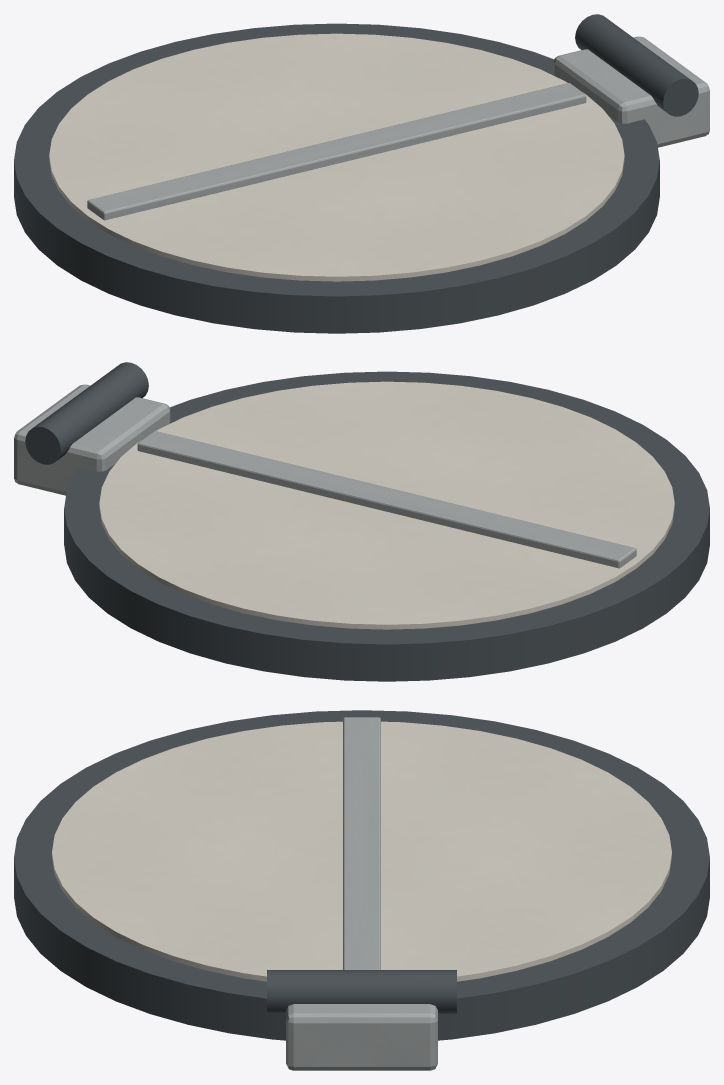
File: telescope_aperture_cover.glb
3 views of the same model, one above another, from view 1: azimuth 30°, elevation 25°; view 2: azimuth 150°, elevation 25°; view 3: azimuth 270°, elevation 25° (orthographic). The views are drawn at different scales.
Visible parts, largest first — view 1: CoverFace, CoverPlate, CoverRib, HingeBracket, HingePin.001; view 2: CoverFace, CoverPlate, CoverRib, HingeBracket, HingePin.001; view 3: CoverFace, CoverPlate, HingeBracket, CoverRib, HingePin.001.
Part boxes in pixels (x1=…): CoverFace: x1=49, y1=33, x2=624, y2=281; CoverPlate: x1=14, y1=23, x2=659, y2=333; CoverRib: x1=87, y1=83, x2=586, y2=220; HingeBracket: x1=553, y1=36, x2=709, y2=147; HingePin.001: x1=575, y1=14, x2=698, y2=116; CoverFace: x1=99, y1=381, x2=674, y2=629; CoverPlate: x1=64, y1=371, x2=709, y2=681; CoverRib: x1=137, y1=431, x2=636, y2=568; HingeBracket: x1=14, y1=384, x2=170, y2=495; HingePin.001: x1=25, y1=362, x2=148, y2=464; CoverFace: x1=52, y1=721, x2=671, y2=981; CoverPlate: x1=14, y1=710, x2=709, y2=1040; HingeBracket: x1=286, y1=1004, x2=437, y2=1070; CoverRib: x1=343, y1=717, x2=380, y2=969; HingePin.001: x1=267, y1=970, x2=456, y2=1013.
Size of the model in its own units: 1.22 by 0.145 by 1.1.
3 materials, 2 textured.
